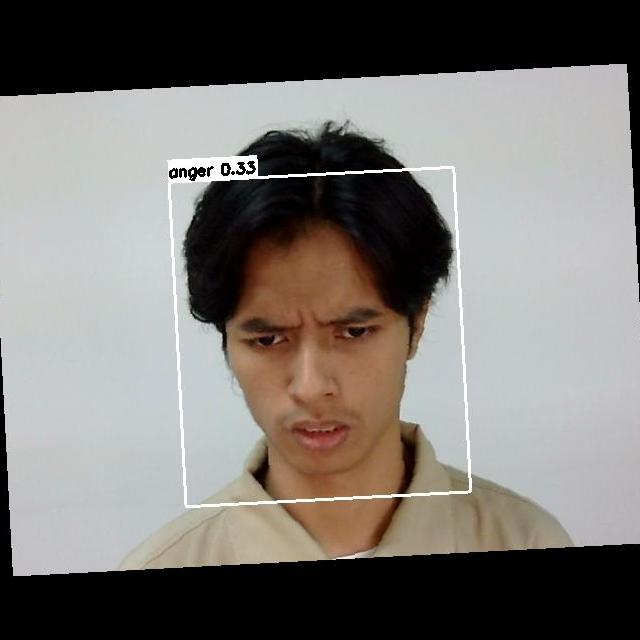Disgust: (225, 275, 424, 469)
